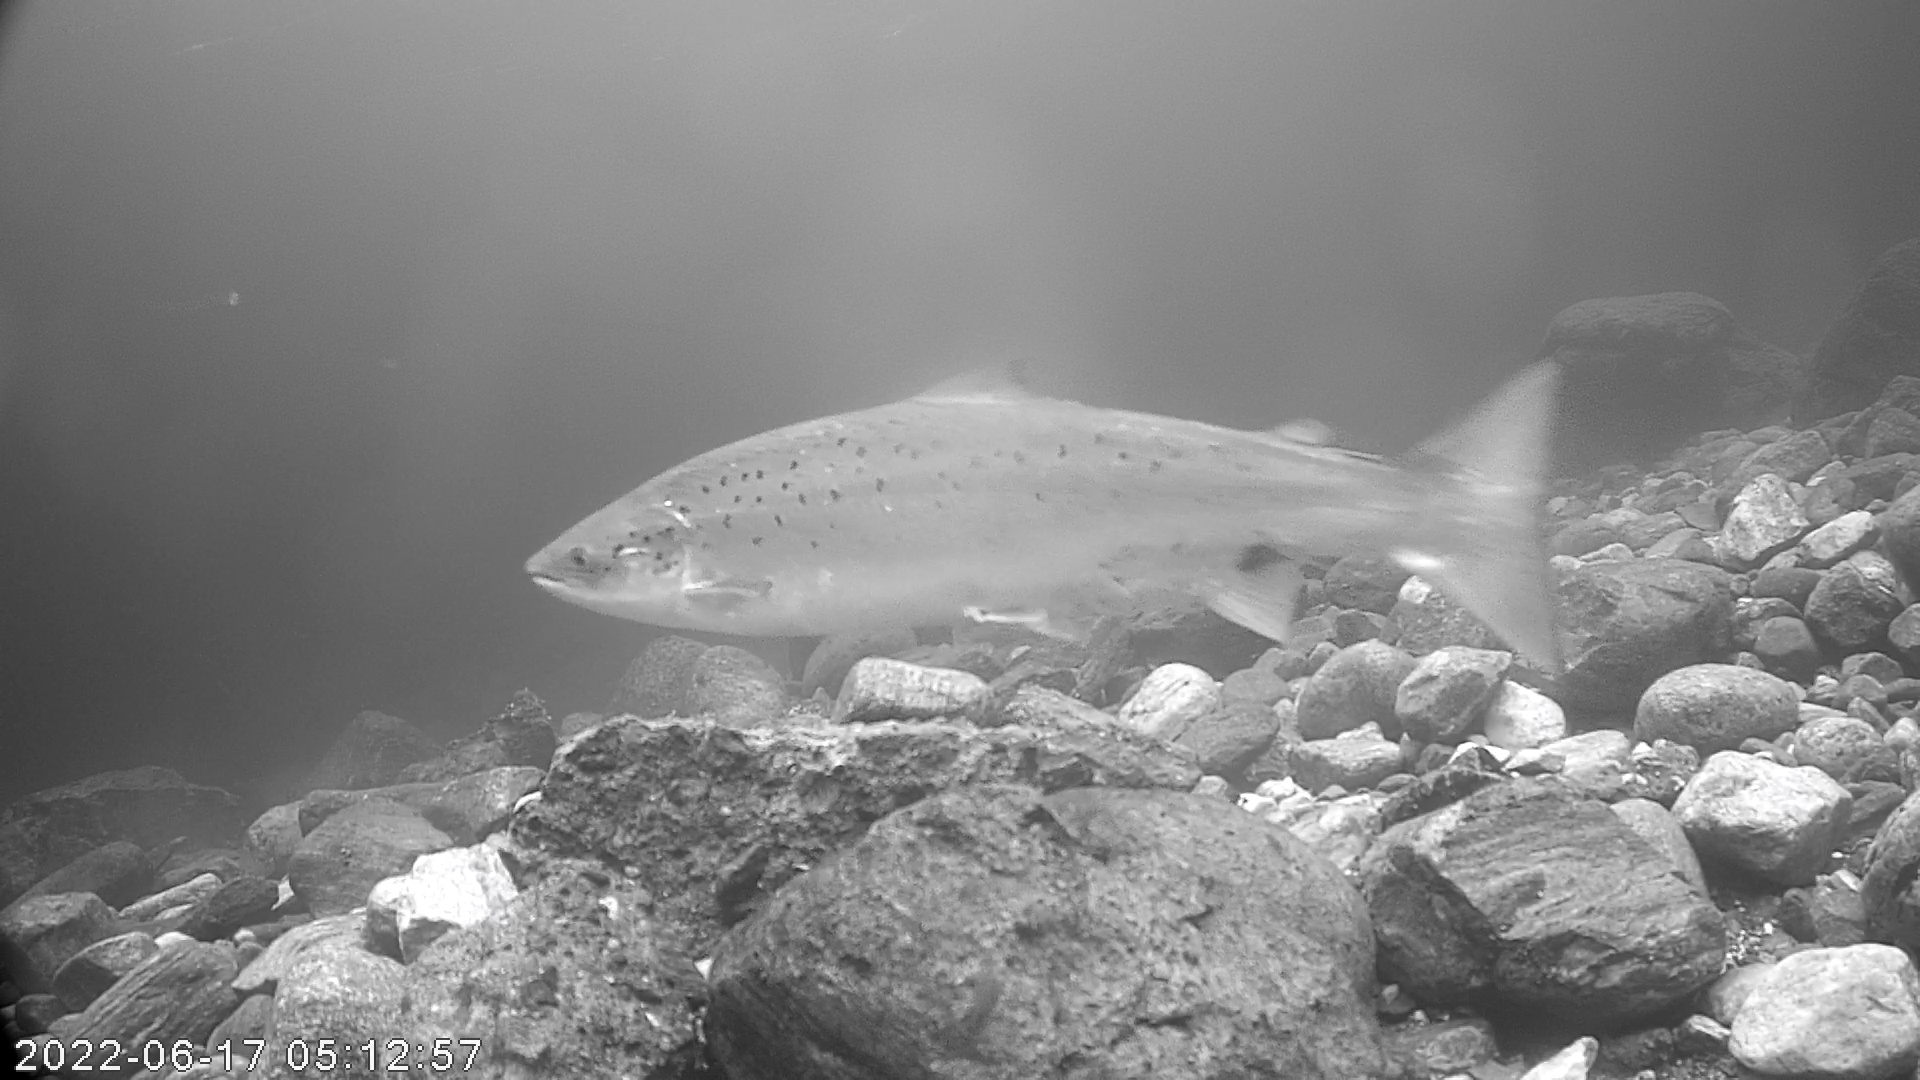salmon: (513, 348, 1569, 676)
